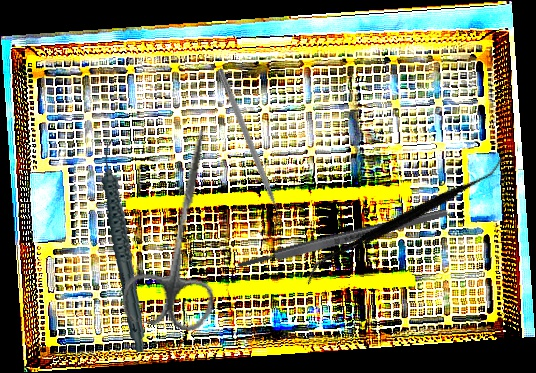Chopper: (208, 67, 287, 230)
Handpiece: (89, 138, 159, 353)
Iris Scissors: (119, 121, 243, 335)
Scalpel Handle: (234, 206, 451, 272)
Spatula Surgical: (304, 102, 506, 339)
